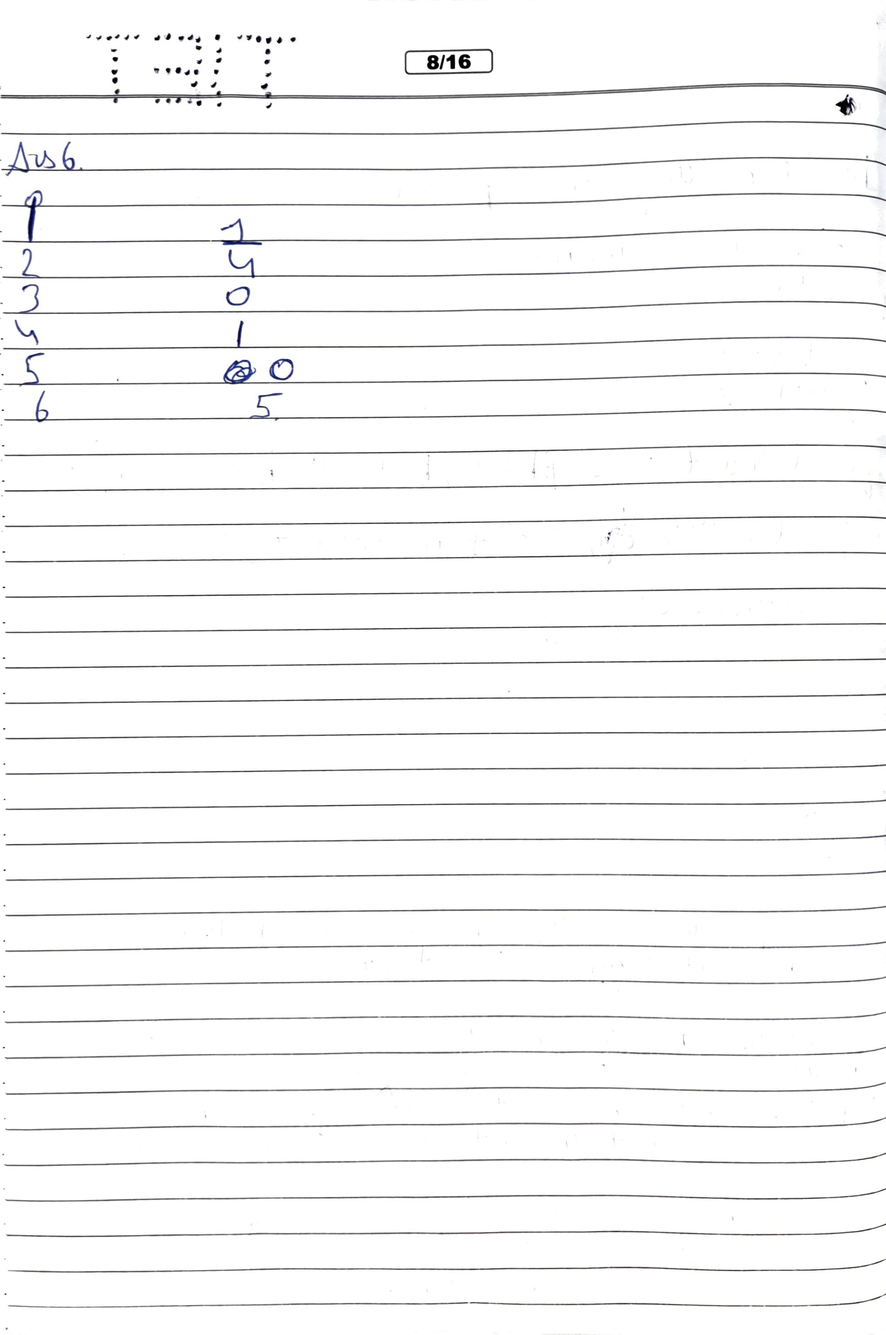cuttings: (222, 357, 254, 386)
